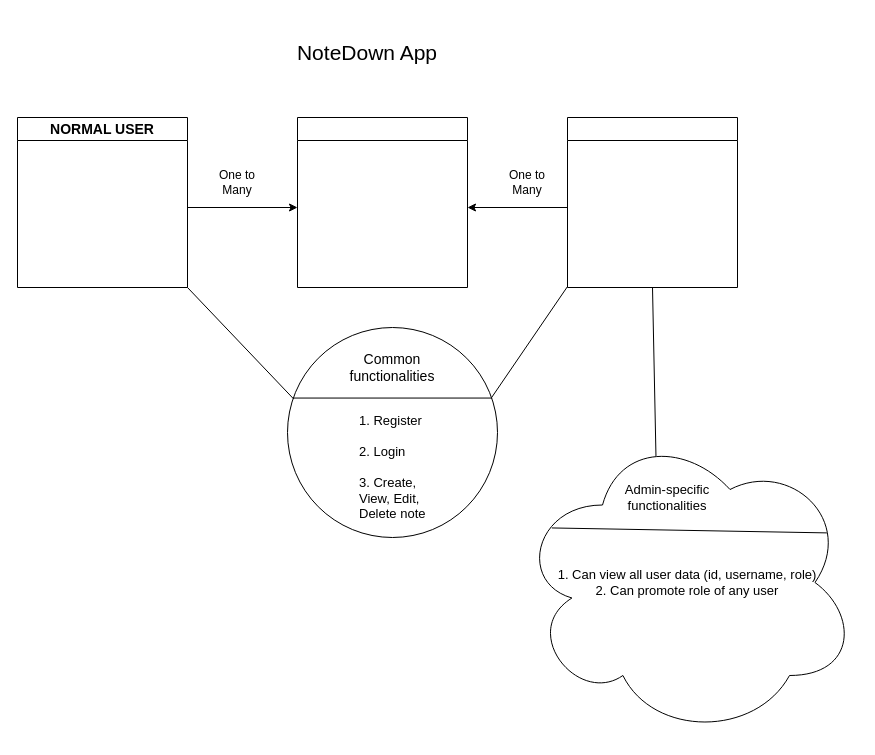
Image size: 875x755. Some labels were removed from this diagram. The shapes that lost their labels are listed below. From the top down, each one's centre as x and y in pixels, then its label:
At (382,202): "NOTE".
At (652,202): "ADMIN USER".
